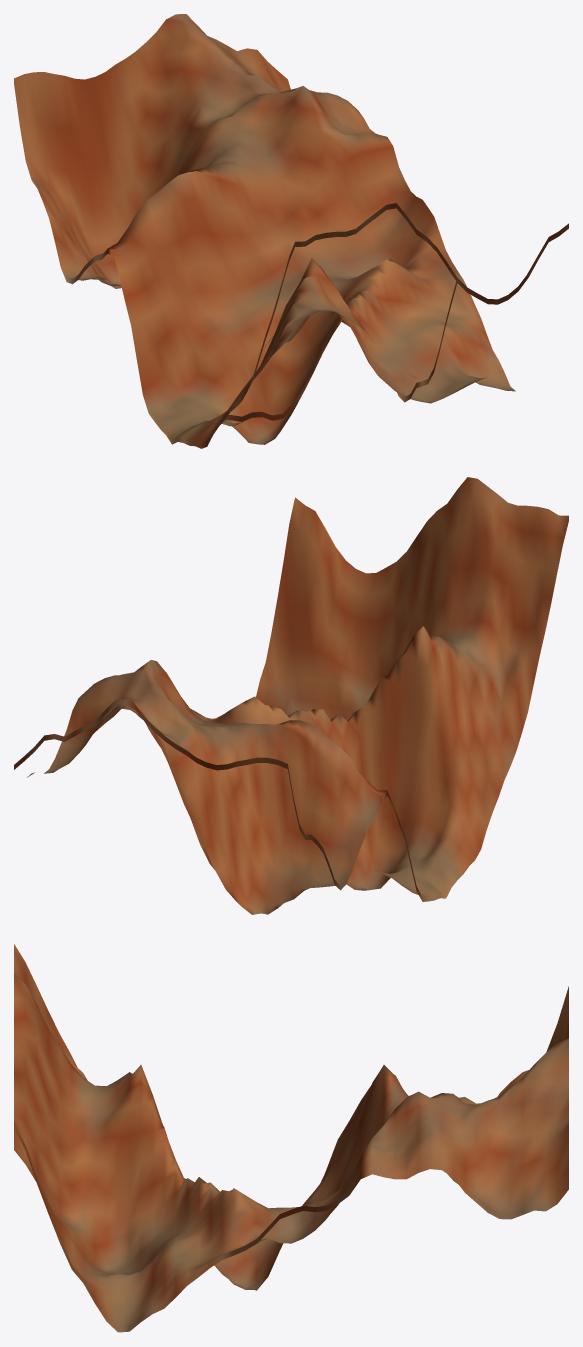
The model's file is terrain-075.glb.
The picture shows the model from 3 angles, top to bottom: view 1: azimuth 30°, elevation 25°; view 2: azimuth 150°, elevation 25°; view 3: azimuth 270°, elevation 25°; orthographic projection.
Visible parts, largest first — view 1: terrain-075; view 2: terrain-075; view 3: terrain-075.
Boxes of the visible parts, x1,y1,x2,y2 form: terrain-075: (14, 14, 568, 448); terrain-075: (14, 477, 568, 914); terrain-075: (14, 944, 568, 1332).
Size of the model in its own units: 216 by 243 by 384.
